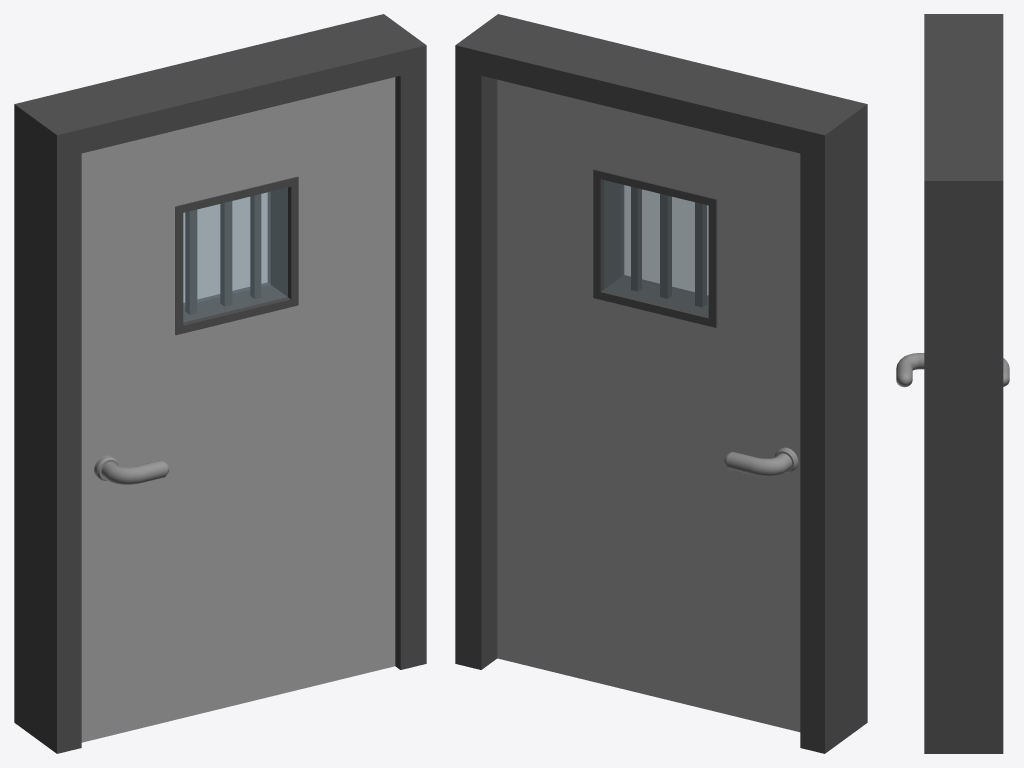
File: Door.fbx
3 renders of one model, left to right at view 1: azimuth 30°, elevation 25°; view 2: azimuth 150°, elevation 25°; view 3: azimuth 270°, elevation 25°, orthographic. The views are drawn at different scales.
Visible parts, largest first — view 1: pCube2, pCube1, pCube4, pCube3, pCylinder3; view 2: pCube2, pCube1, pCube4, pCube3, pCylinder3; view 3: pCube1, pCylinder3.
Boxes of the visible parts, x1=… form: pCube2: x1=81, y1=77, x2=395, y2=742; pCube1: x1=14, y1=14, x2=426, y2=753; pCube4: x1=175, y1=176, x2=298, y2=335; pCube3: x1=183, y1=187, x2=287, y2=321; pCylinder3: x1=94, y1=455, x2=169, y2=484; pCube2: x1=497, y1=79, x2=800, y2=732; pCube1: x1=455, y1=14, x2=867, y2=753; pCube4: x1=593, y1=169, x2=717, y2=327; pCube3: x1=604, y1=180, x2=708, y2=314; pCylinder3: x1=724, y1=447, x2=798, y2=476; pCube1: x1=924, y1=14, x2=1003, y2=753; pCylinder3: x1=896, y1=353, x2=1009, y2=387.
Bounding box in the file's own units: 5 × 8 × 1.44.
